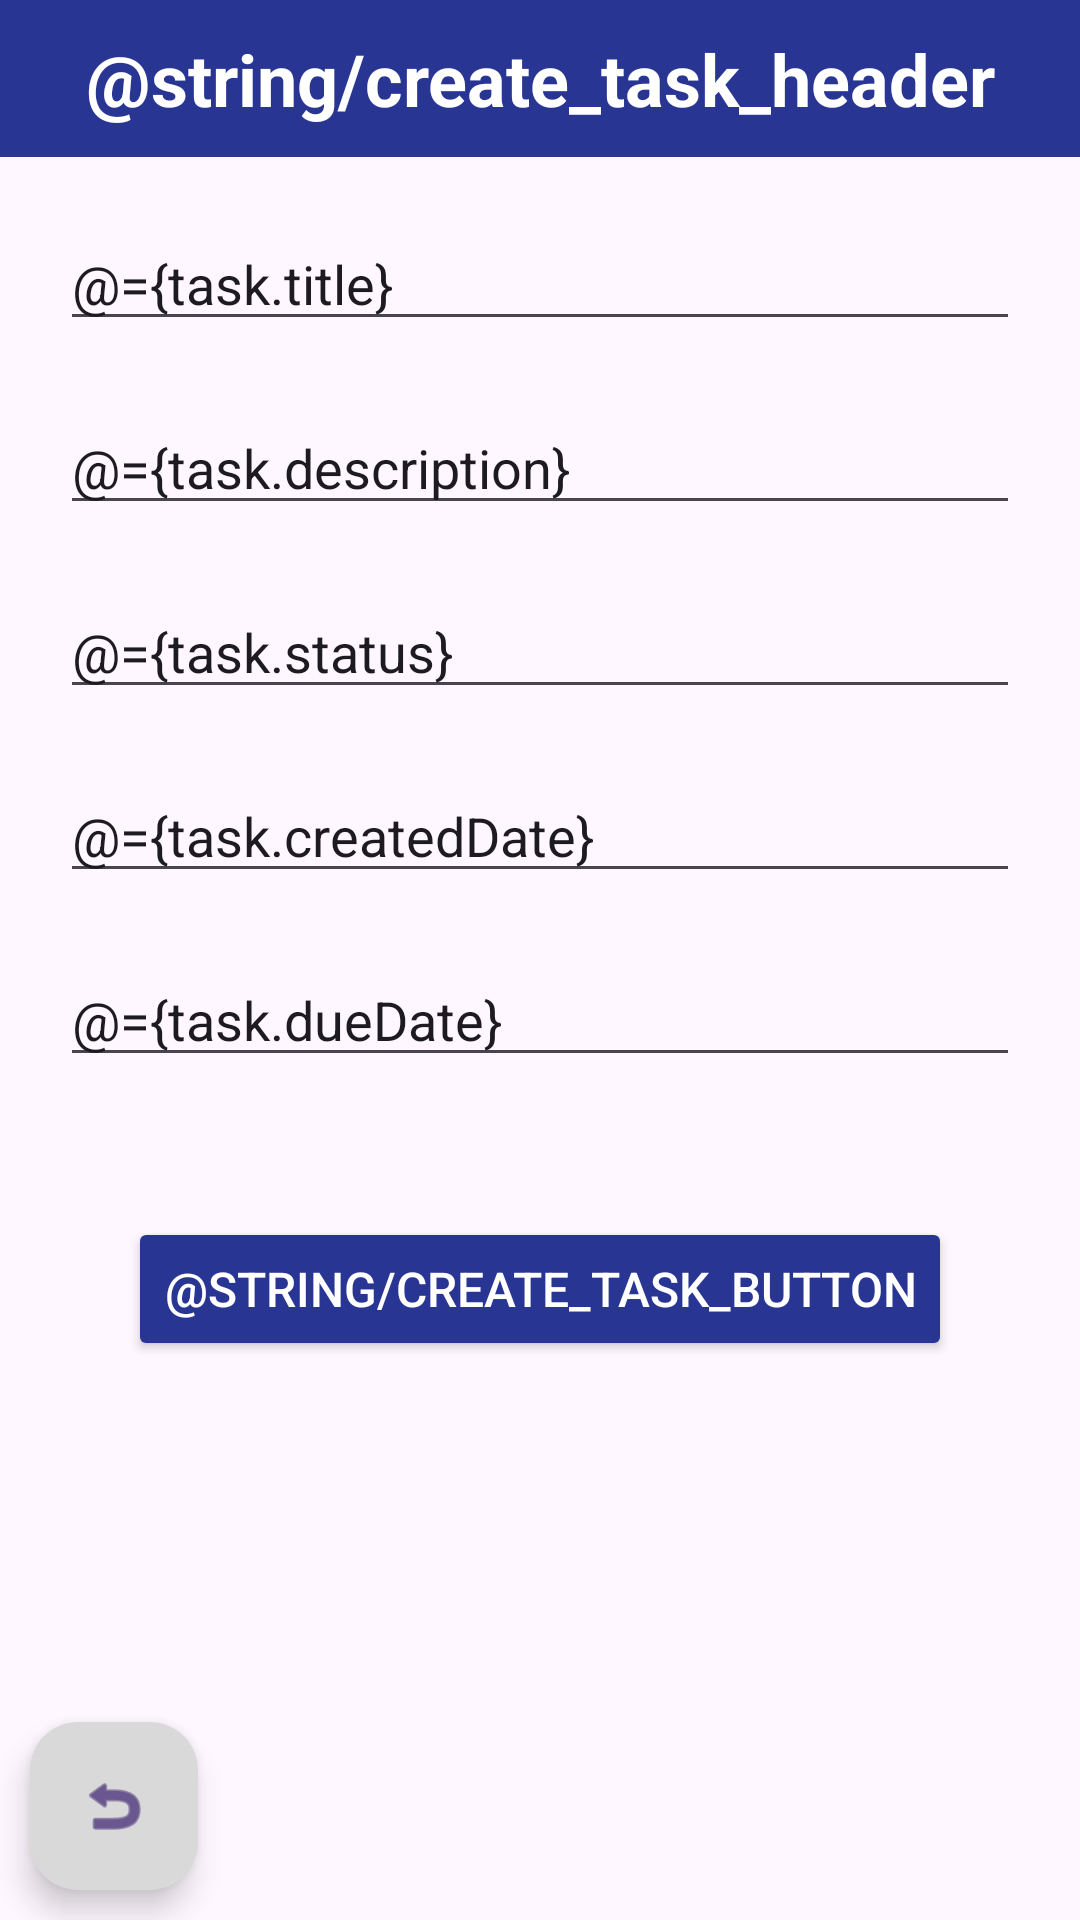

Where icons sit on this 1080px×1920px app screen, as bbox=[x1, y1, x2, y2]:
revert: bbox=[30, 1722, 198, 1890]
